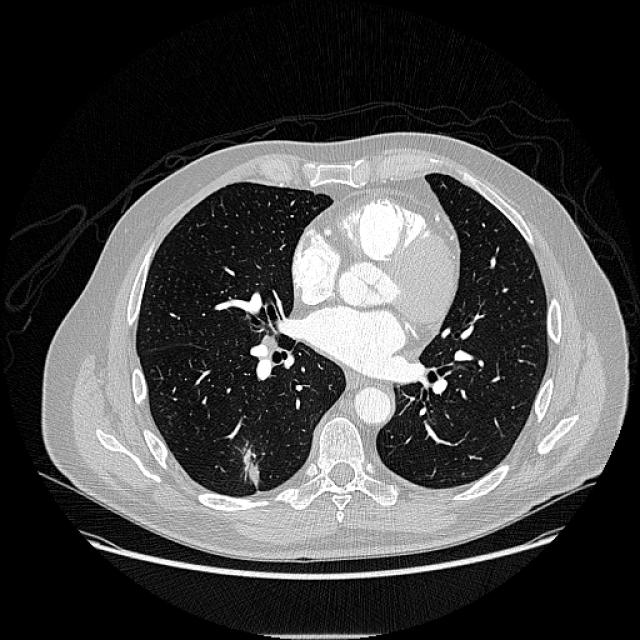nodule: (226, 443, 269, 485)
